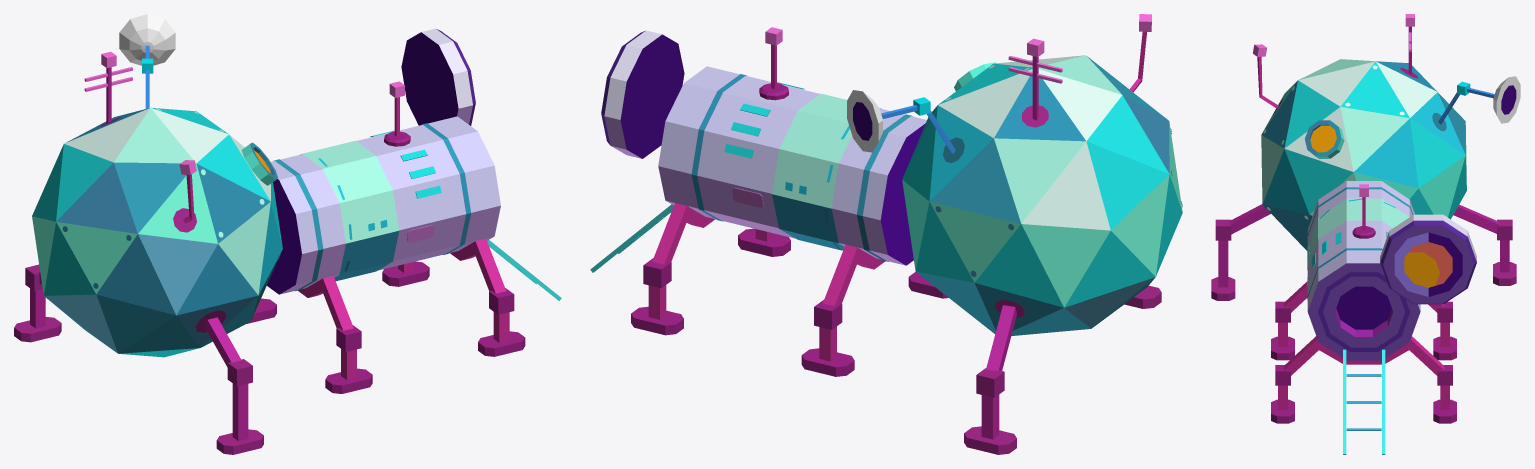
The model's file is Building_019.fbx.
The picture shows the model from 3 angles, left to right: view 1: azimuth 30°, elevation 25°; view 2: azimuth 150°, elevation 25°; view 3: azimuth 270°, elevation 25°; orthographic projection. The views are drawn at different scales.
Visible parts, largest first — view 1: Building_019; view 2: Building_019; view 3: Building_019.
Part boxes in pixels (box(x1,y1,x2,y2)): Building_019: box(14, 14, 561, 454); Building_019: box(590, 14, 1182, 454); Building_019: box(1211, 14, 1520, 454).
Size of the model in its own units: 28.94 by 17.58 by 18.3.
